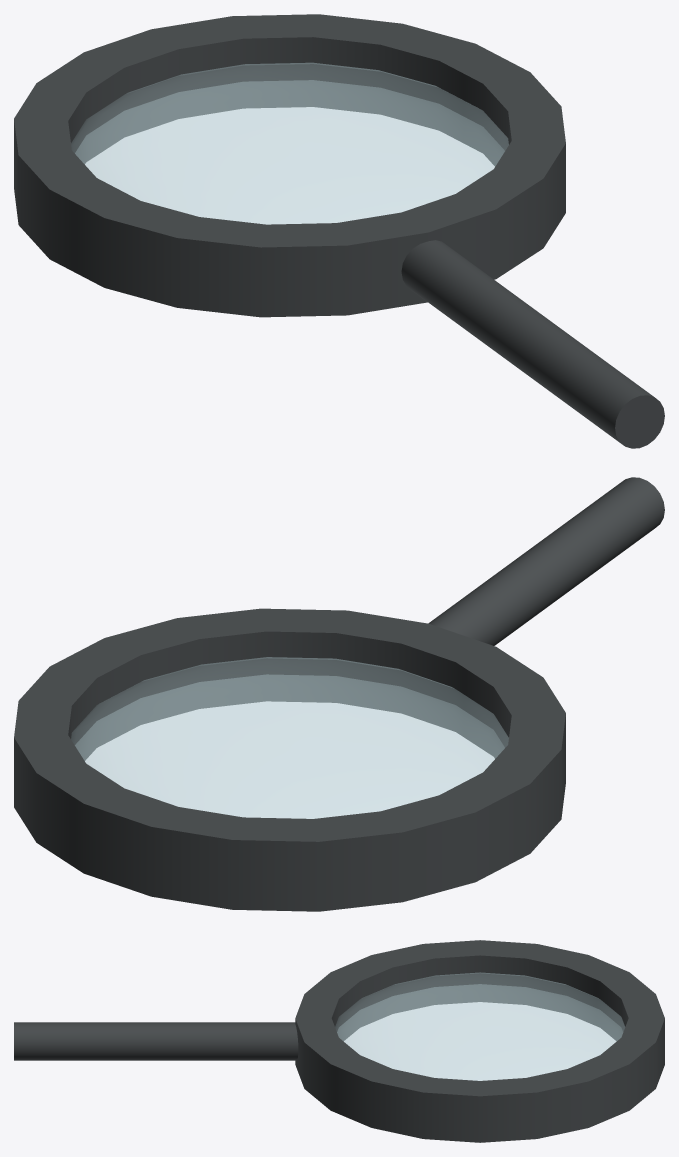
Rendered from magnifying glass.fbx.
3 views of the same model, one above another, from view 1: azimuth 30°, elevation 25°; view 2: azimuth 150°, elevation 25°; view 3: azimuth 270°, elevation 25° (orthographic). The views are drawn at different scales.
Parts seen in each view (by area): view 1: pCylinder4; view 2: pCylinder4; view 3: pCylinder4.
Part boxes in pixels (x1,y1,x2,y2): pCylinder4: (14,14,664,448); pCylinder4: (14,477,664,911); pCylinder4: (14,940,664,1142).
Size of the model in its own units: 518 by 77.59 by 911.
